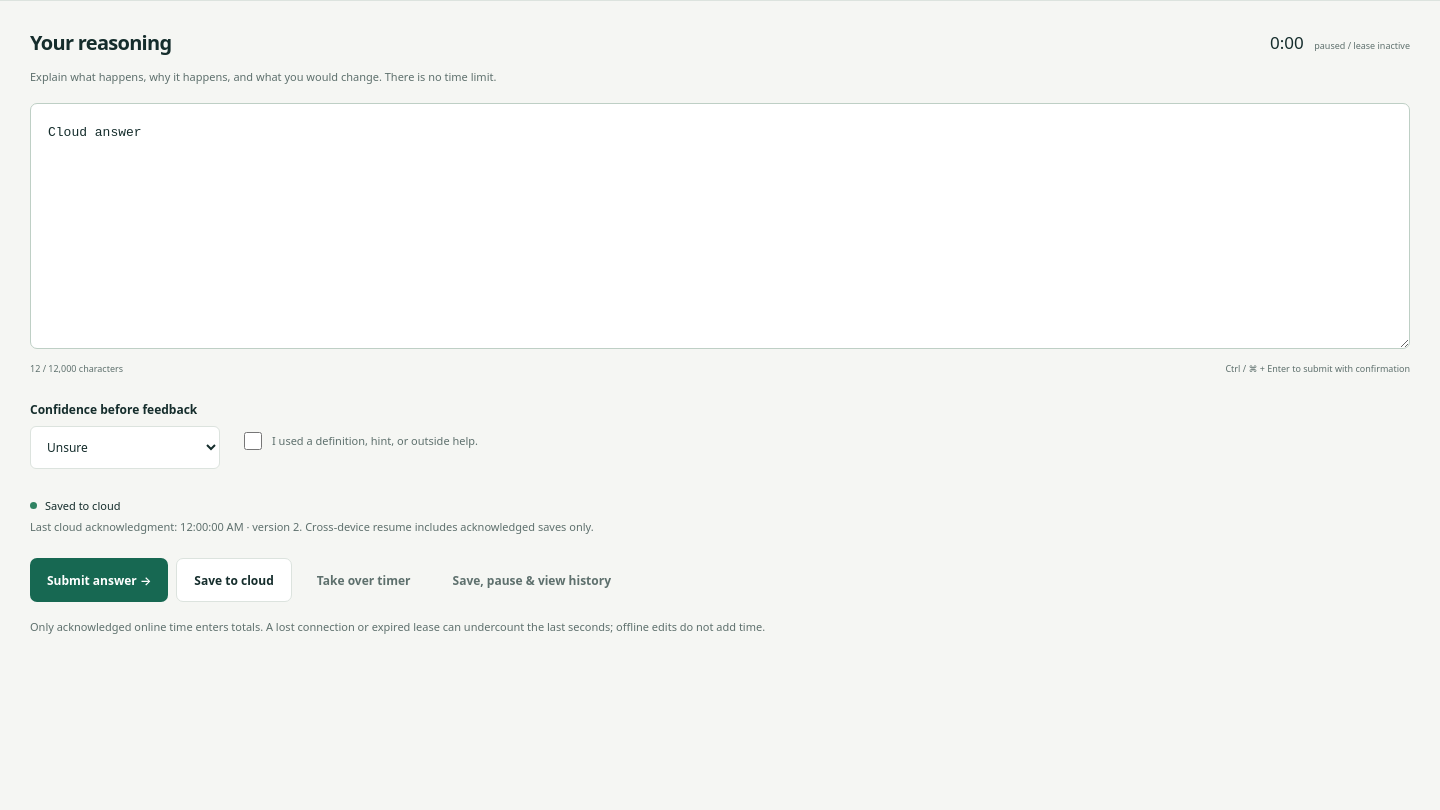
Scenario: adopts matching cloud data on a timer-owner rejection without forcing a draft choice
expect the text box named "Your answer" is shown: met, box [30,103,1410,349]
Step 1. Click the button "Save to cloud" → (234, 580), box [176,558,292,602]
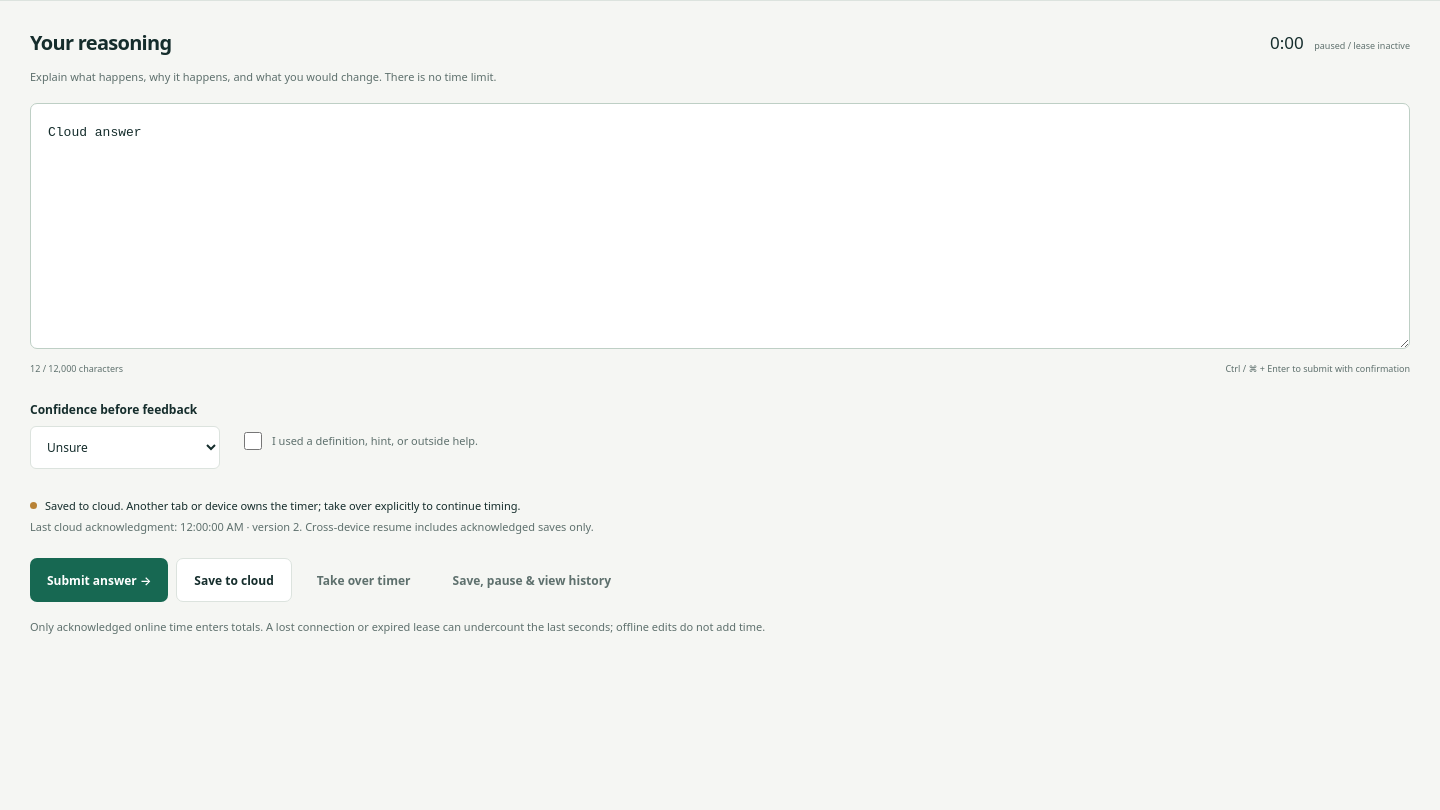
expect the button "Take over timer" is enabled: met, box [300,558,428,602]
expect the text "Saved to cloud. Another tab or device owns the timer; take over explicitly to continue timing." is shown: met, box [45,498,520,513]
